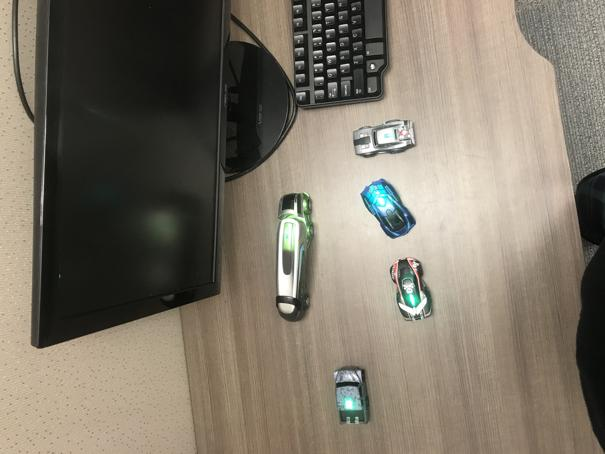Charger: (351, 119, 418, 158)
Freewheel: (275, 192, 315, 321)
MXT: (332, 366, 373, 426)
Shock: (360, 178, 418, 239)
Skull: (390, 257, 436, 322)
